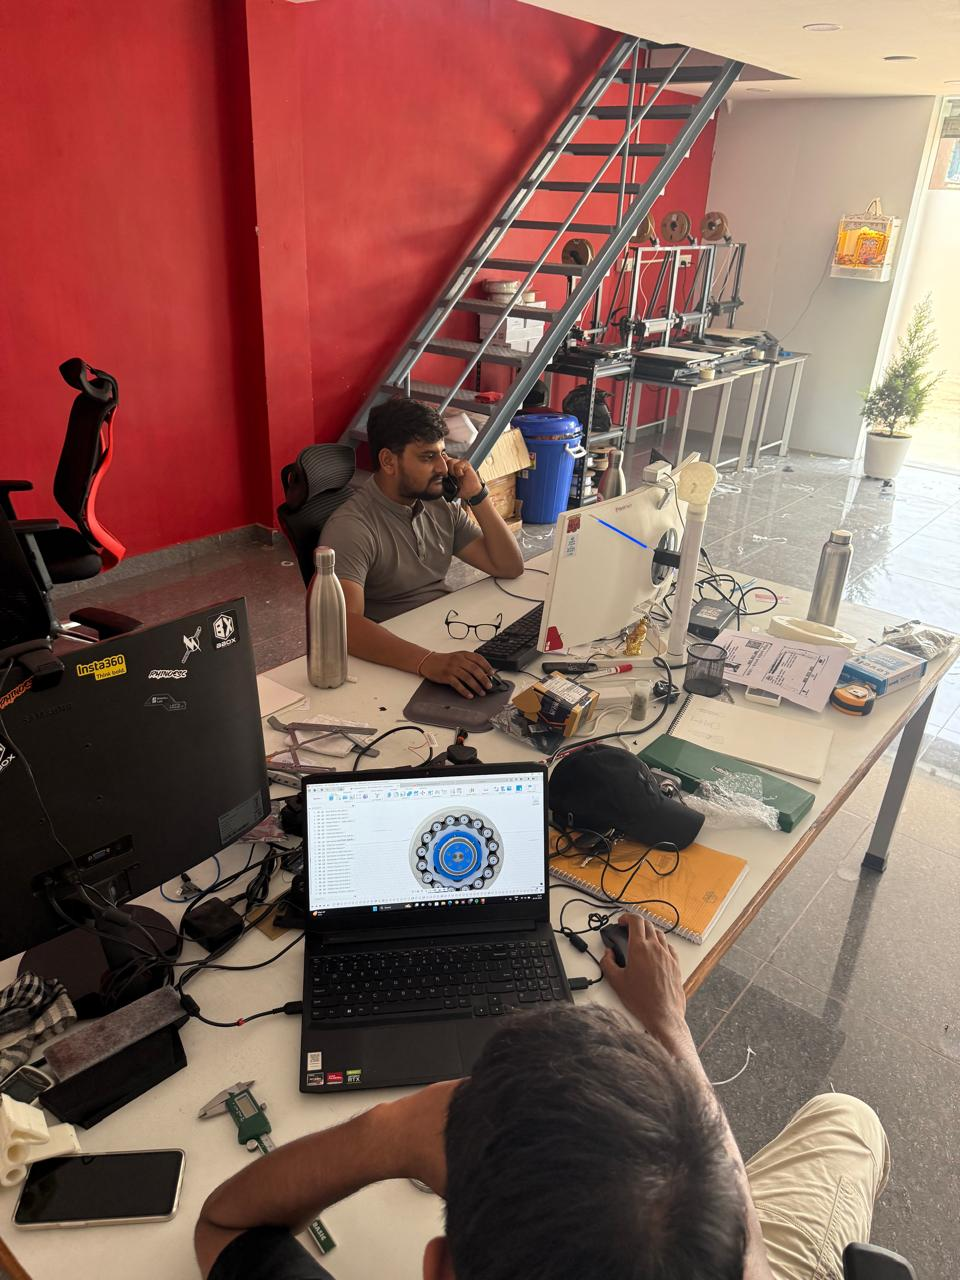bottle_on_table: (296, 538, 372, 688), (786, 515, 859, 661)
